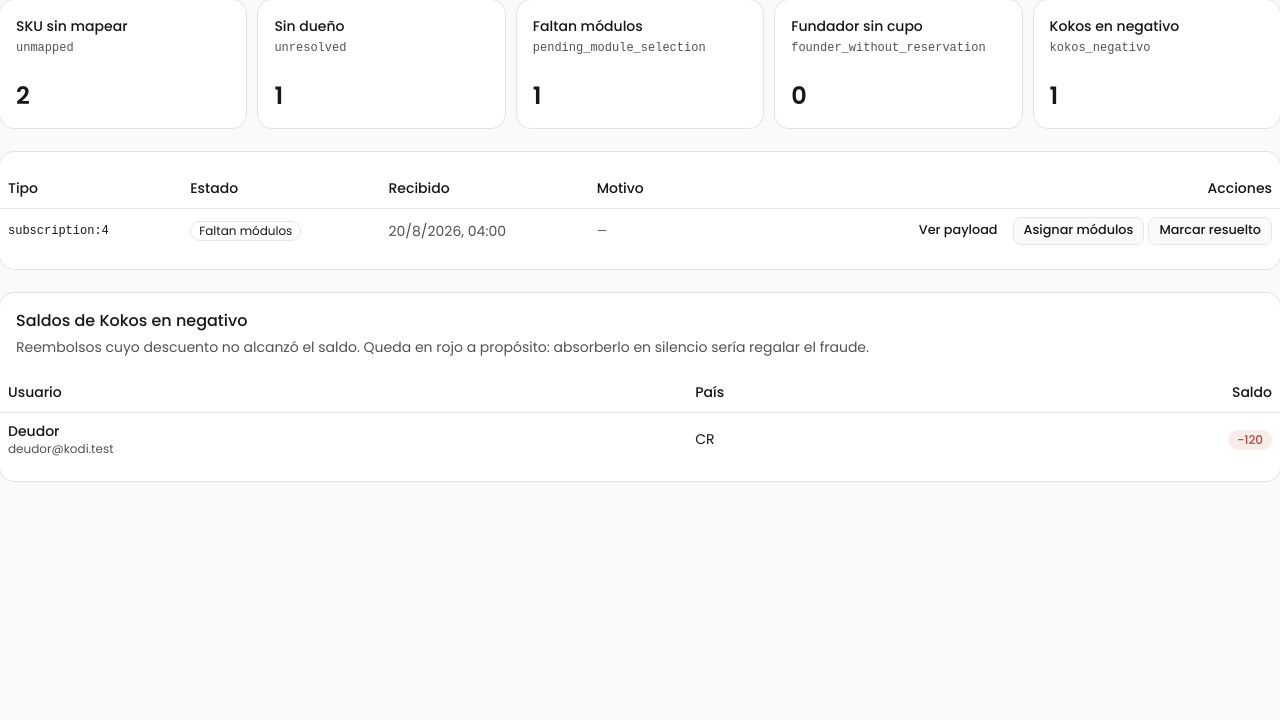
it: IncidenciasPanel › no cierra una incidencia sin motivo
Click the button "Marcar resuelto" at (1210, 230), box x1=1148 y1=216 x2=1272 y2=244
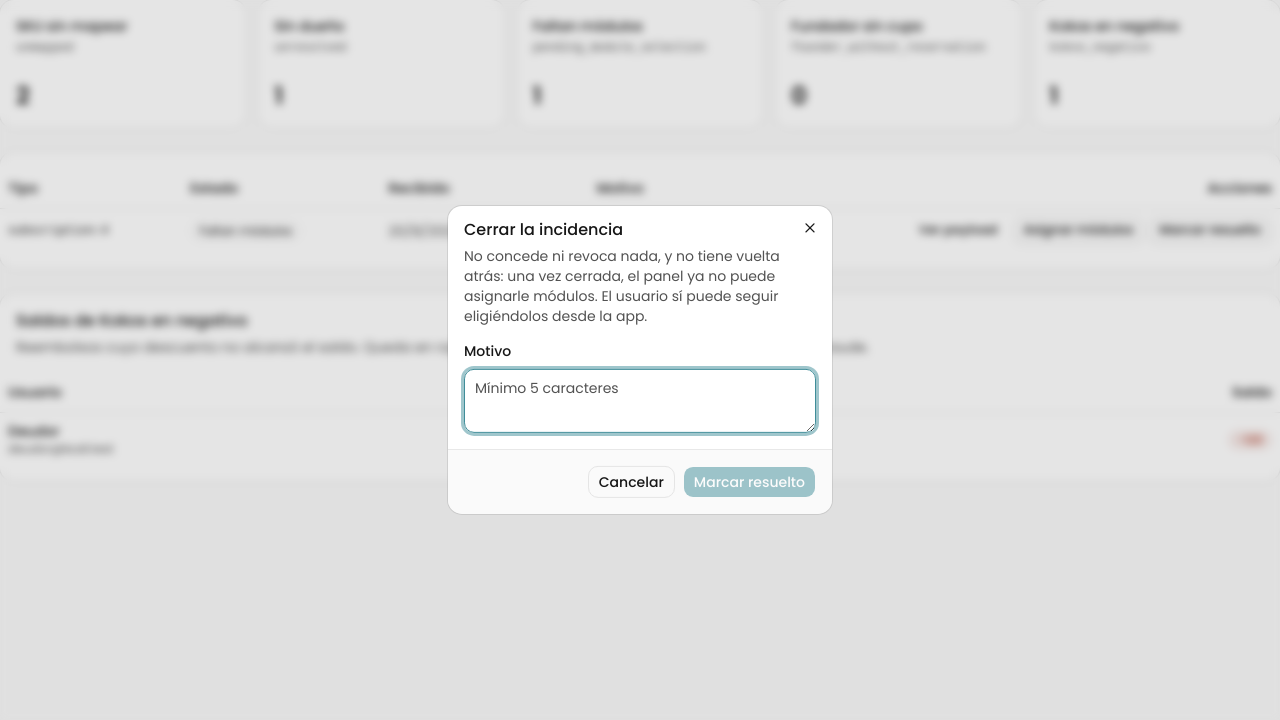
Expected: the heading "Cerrar la incidencia" is shown, x1=464 y1=218 x2=623 y2=241
Expected: the button "Marcar resuelto" is shown, x1=683 y1=466 x2=816 y2=498
